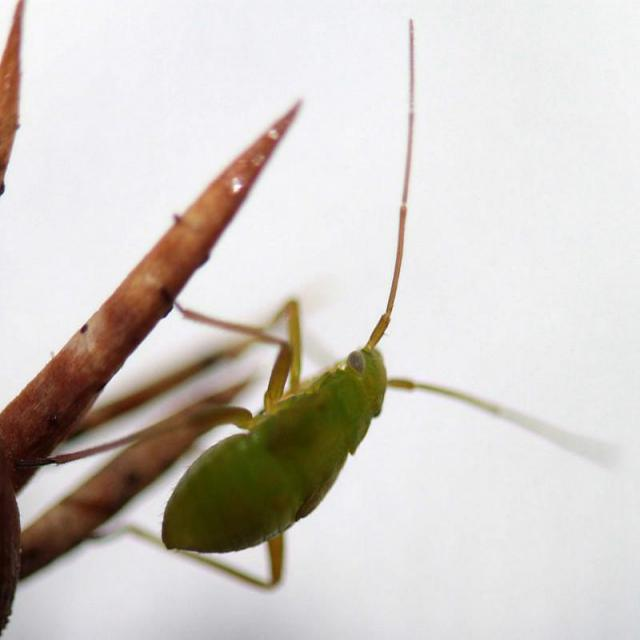Miridae-Adult-: (68, 15, 592, 595)
